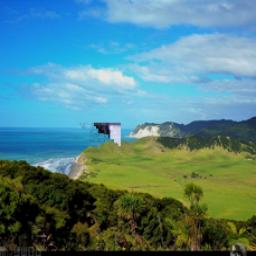Crow: (74, 124, 121, 256)
